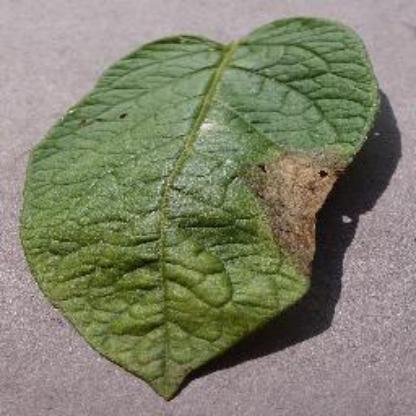Late-Blight: (19, 14, 393, 400)
